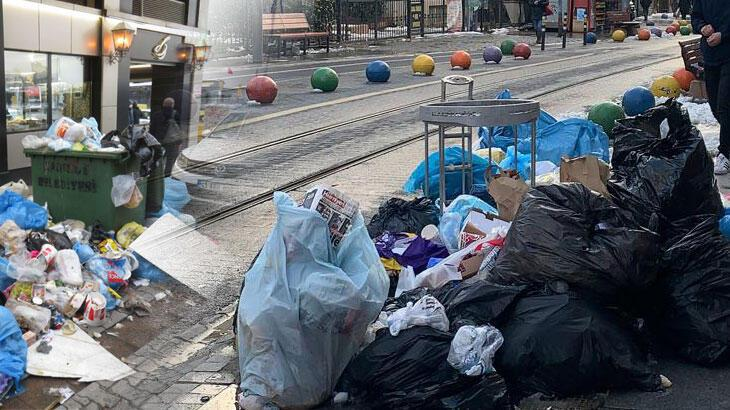Container: (25, 146, 166, 217)
Garbage: (543, 126, 730, 304), (520, 258, 730, 392), (242, 267, 425, 410), (491, 182, 627, 317), (633, 116, 716, 273), (4, 219, 102, 349), (275, 191, 371, 318), (376, 198, 486, 302), (536, 120, 604, 235), (3, 308, 107, 382), (72, 242, 143, 320), (1, 186, 30, 283)
